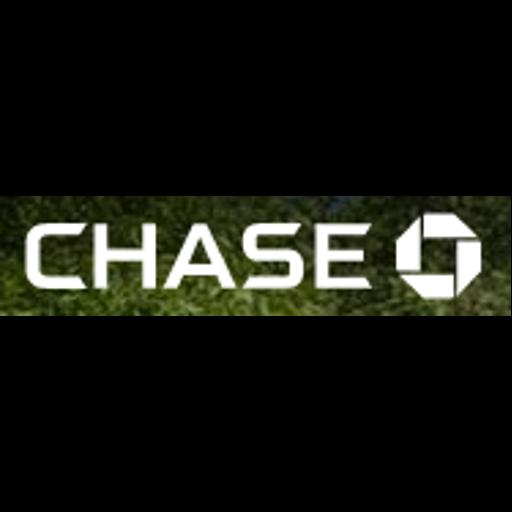Chase Personal Banking: (0, 196, 511, 316)
